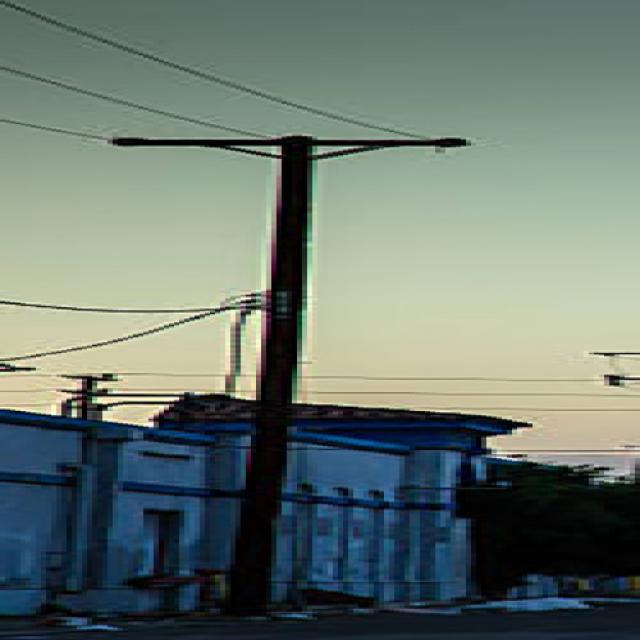pole: (78, 120, 504, 627)
